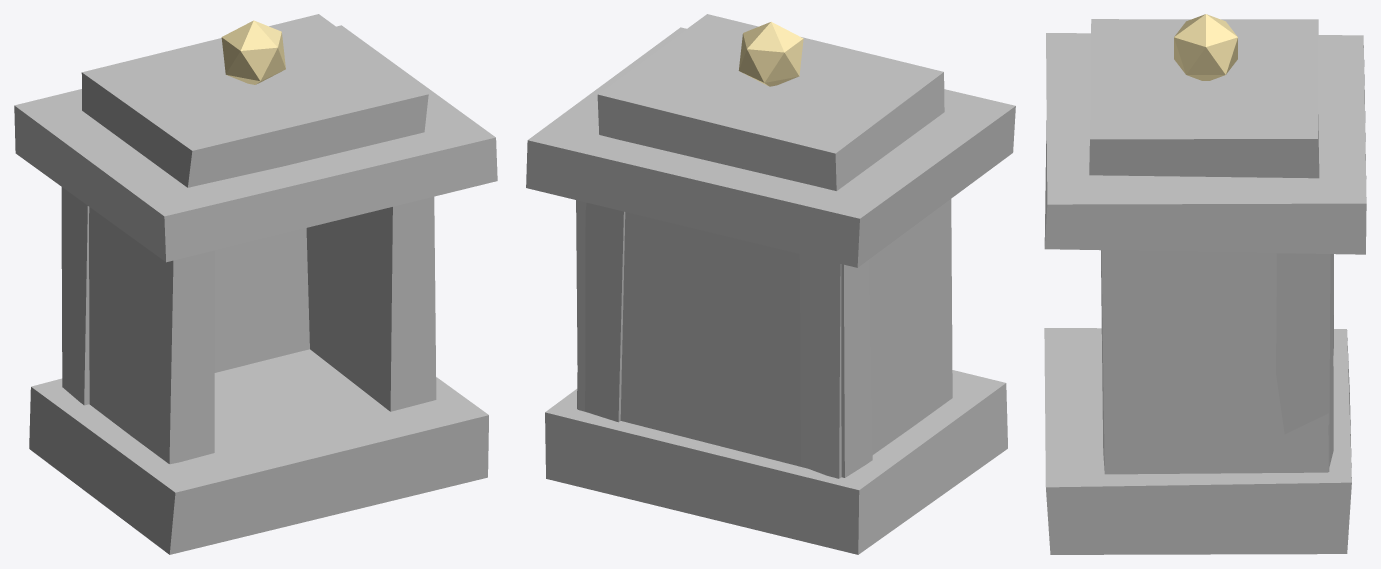
Rendered from Prop_Shrine.fbx.
3 views of the same model, side by side, from view 1: azimuth 30°, elevation 25°; view 2: azimuth 150°, elevation 25°; view 3: azimuth 270°, elevation 25° (orthographic). The views are drawn at different scales.
Parts seen in each view (by area): view 1: Shrine_Mesh; view 2: Shrine_Mesh; view 3: Shrine_Mesh.
Boxes of the visible parts, x1,y1,x2,y2 form: Shrine_Mesh: (14,14,497,554); Shrine_Mesh: (526,14,1015,554); Shrine_Mesh: (1044,14,1366,554).
Bounding box in the file's own units: 1.06 × 1.35 × 0.8538.
